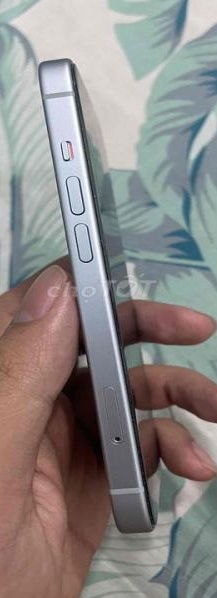scratch: (91, 193, 99, 199), (70, 79, 78, 85)
